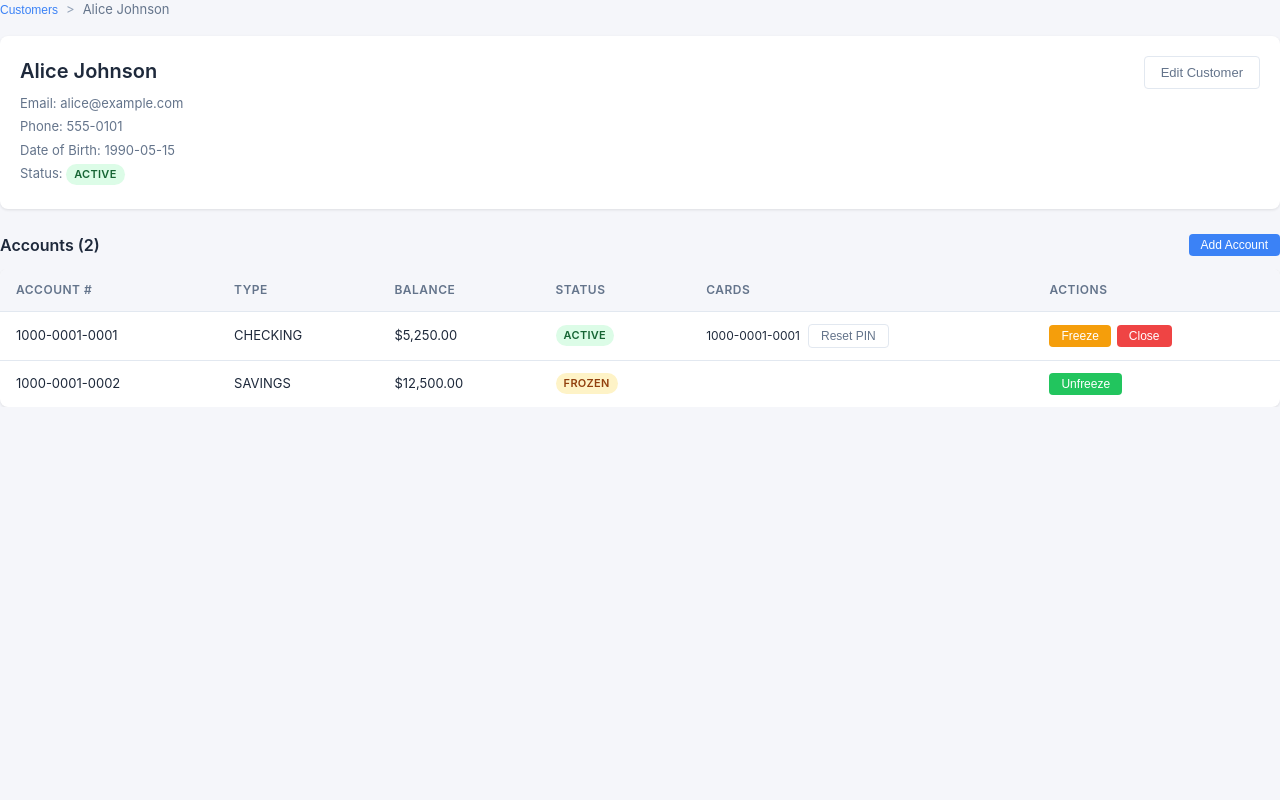
Scenario: CustomerDetailPage › opens PIN reset modal
Click the button "Reset PIN": (848, 336) [808,324,889,348]
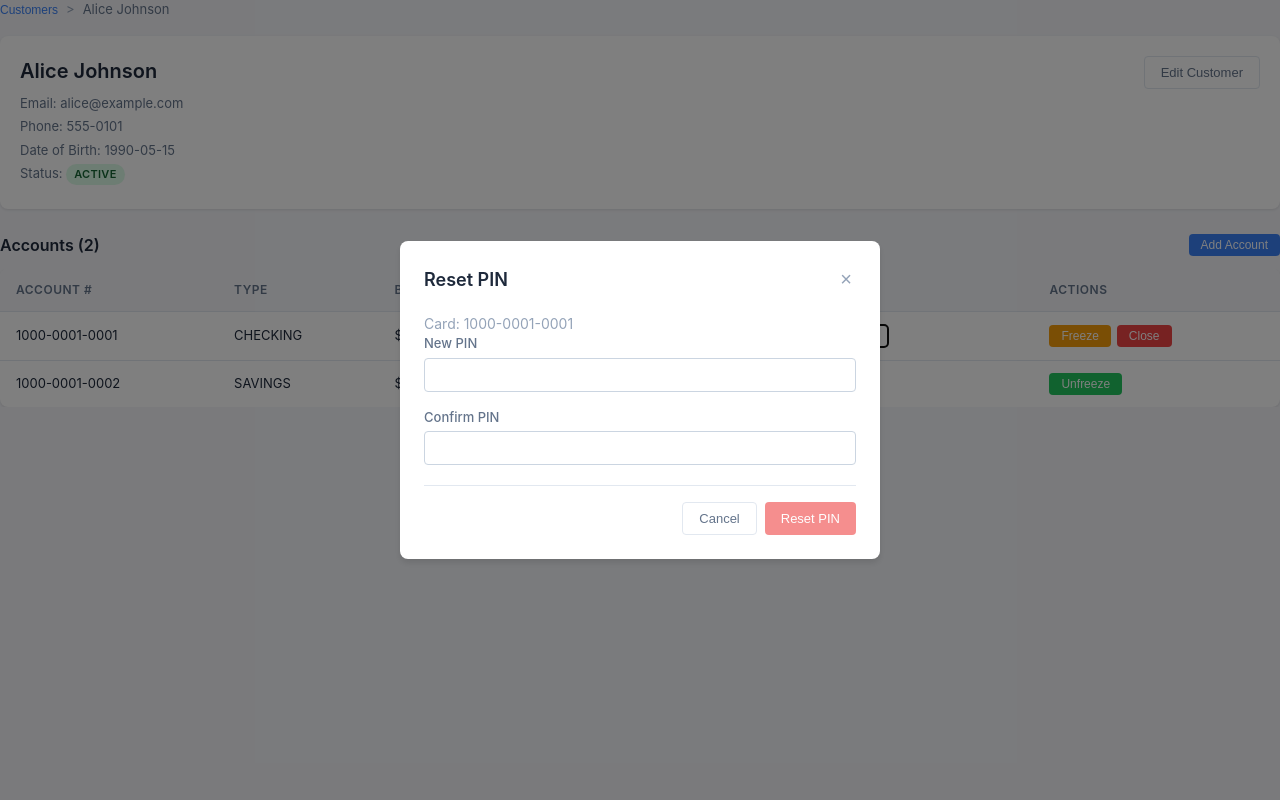
Result: the text "Card: 1000-0001-0001" is shown at [424,315,573,332]
